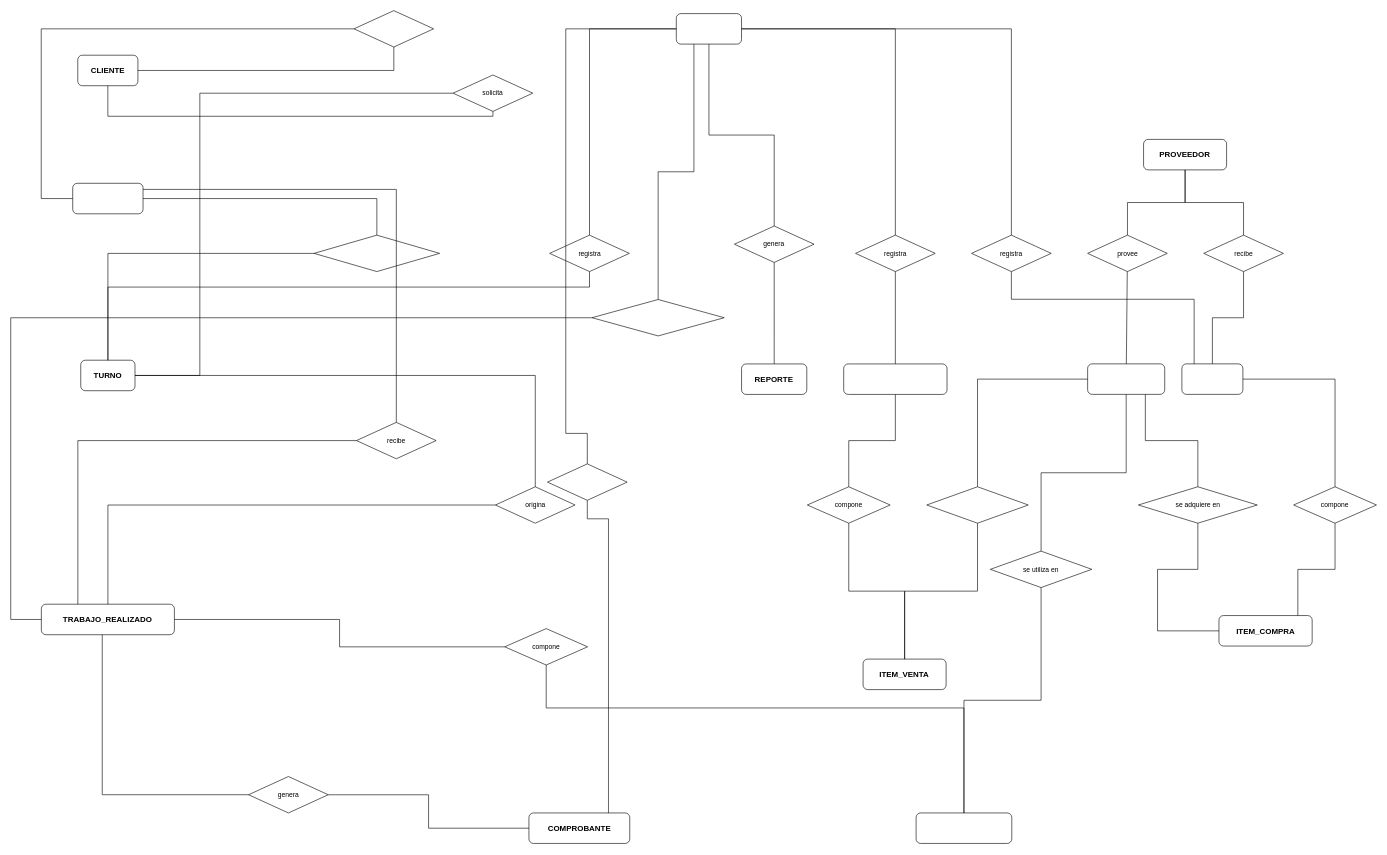
Image size: 1387x855. Some labels were removed from this diagram. Each missing label, with the centre of its shape:
COMPRA: (x=1212, y=378)
ejecuta / registra: (x=657, y=317)
emite: (x=587, y=481)
es agendado en: (x=376, y=253)
ITEM_TRABAJO: (x=963, y=827)
posee: (x=393, y=28)
PRODUCTO: (x=1126, y=378)
se vende en: (x=977, y=504)
USUARIO: (x=709, y=28)
VEHÍCULO: (x=107, y=198)
VENTA_DIRECTA: (x=895, y=378)
